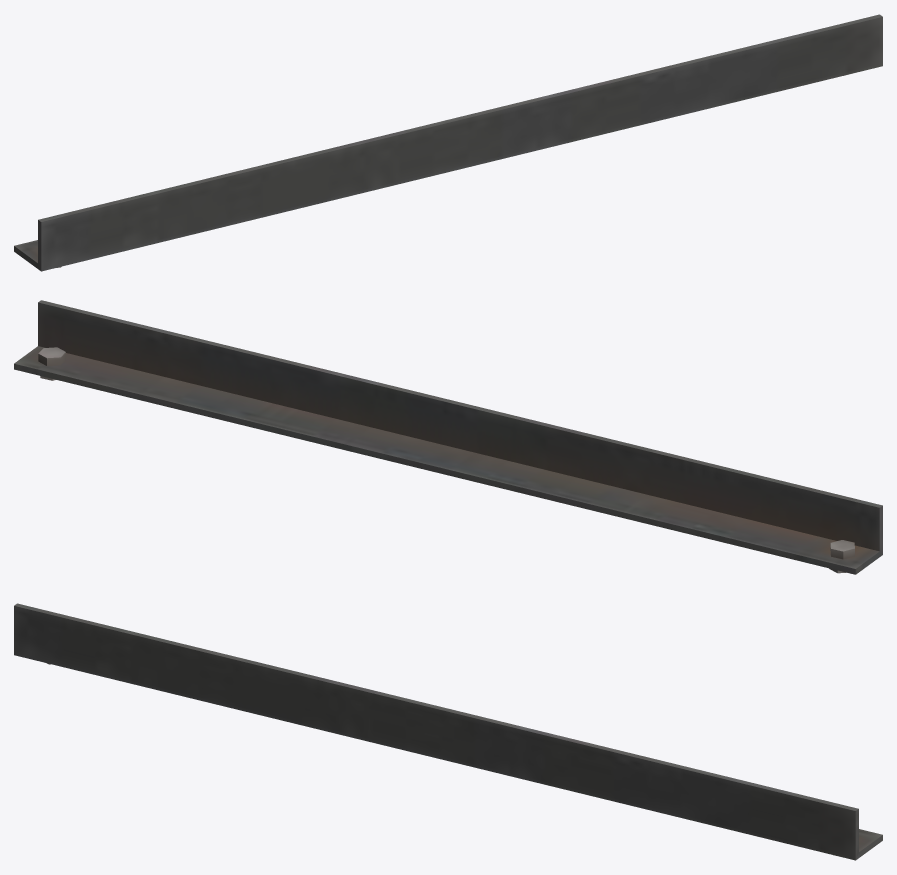
File: brace_01.gltf
3 renders of one model, top to bottom at view 1: azimuth 30°, elevation 25°; view 2: azimuth 150°, elevation 25°; view 3: azimuth 330°, elevation 25°, orthographic.
Visible parts, largest first — view 1: brace_01; view 2: brace_01; view 3: brace_01.
Part boxes in pixels (x1,y1,x2,y2): brace_01: [14, 14, 882, 271]; brace_01: [14, 300, 882, 574]; brace_01: [14, 603, 882, 860].
Bounding box in the file's own units: 0.6897 × 0.0453 × 0.0387.
Materials: 1 (1 with a texture image).
